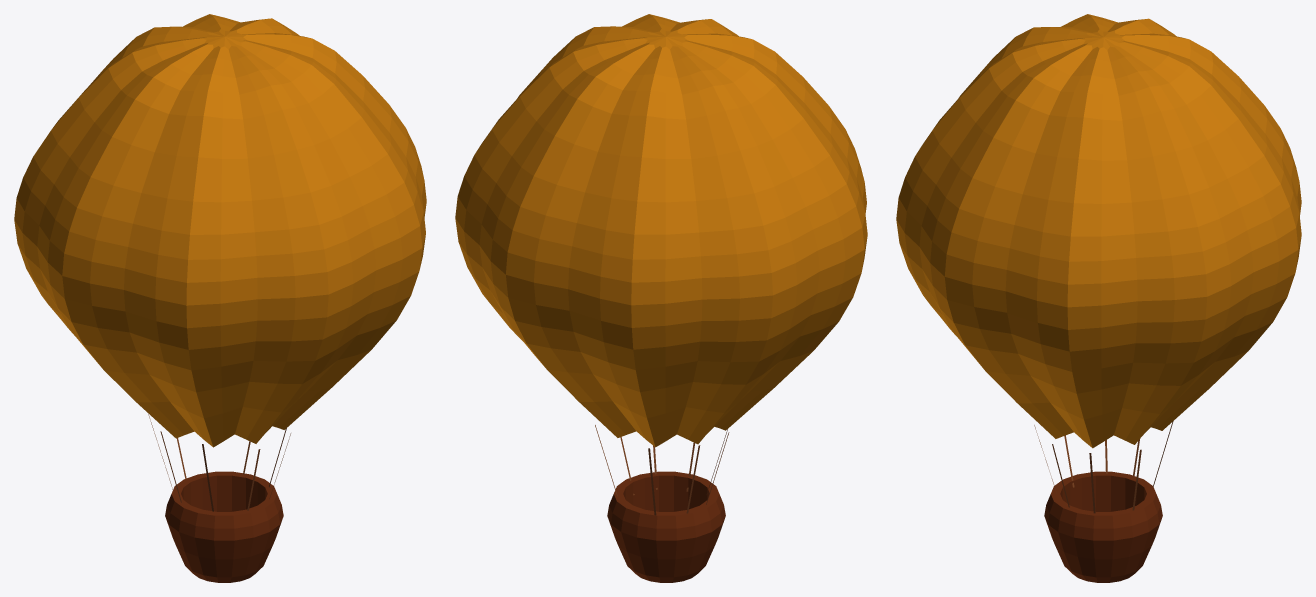
File: globo3.fbx
3 renders of one model, left to right at view 1: azimuth 30°, elevation 25°; view 2: azimuth 150°, elevation 25°; view 3: azimuth 270°, elevation 25°, orthographic.
Visible parts, largest first — view 1: Cylinder.009, Cylinder.010; view 2: Cylinder.009, Cylinder.010; view 3: Cylinder.009, Cylinder.010.
Boxes of the visible parts, x1=… form: Cylinder.009: x1=14, y1=14, x2=426, y2=447; Cylinder.010: x1=165, y1=471, x2=283, y2=582; Cylinder.009: x1=455, y1=14, x2=867, y2=447; Cylinder.010: x1=607, y1=471, x2=725, y2=582; Cylinder.009: x1=896, y1=14, x2=1301, y2=448; Cylinder.010: x1=1044, y1=471, x2=1162, y2=582.
Bounding box in the file's own units: 192 × 270 × 187.
